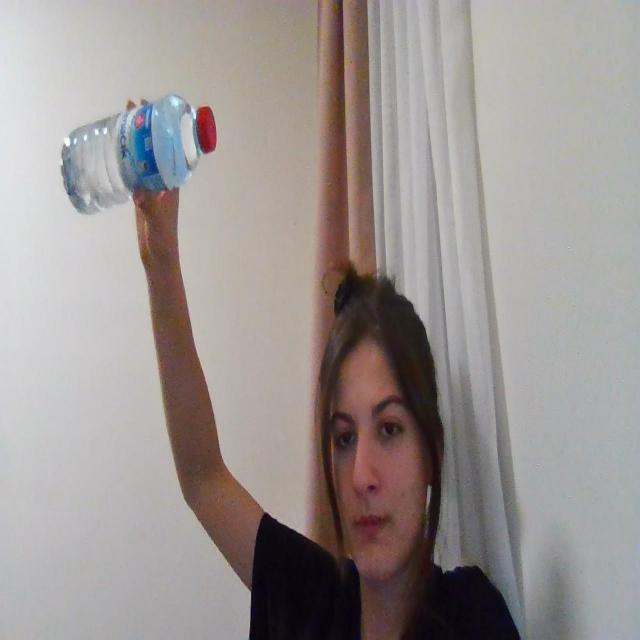bottle: (62, 96, 216, 220)
